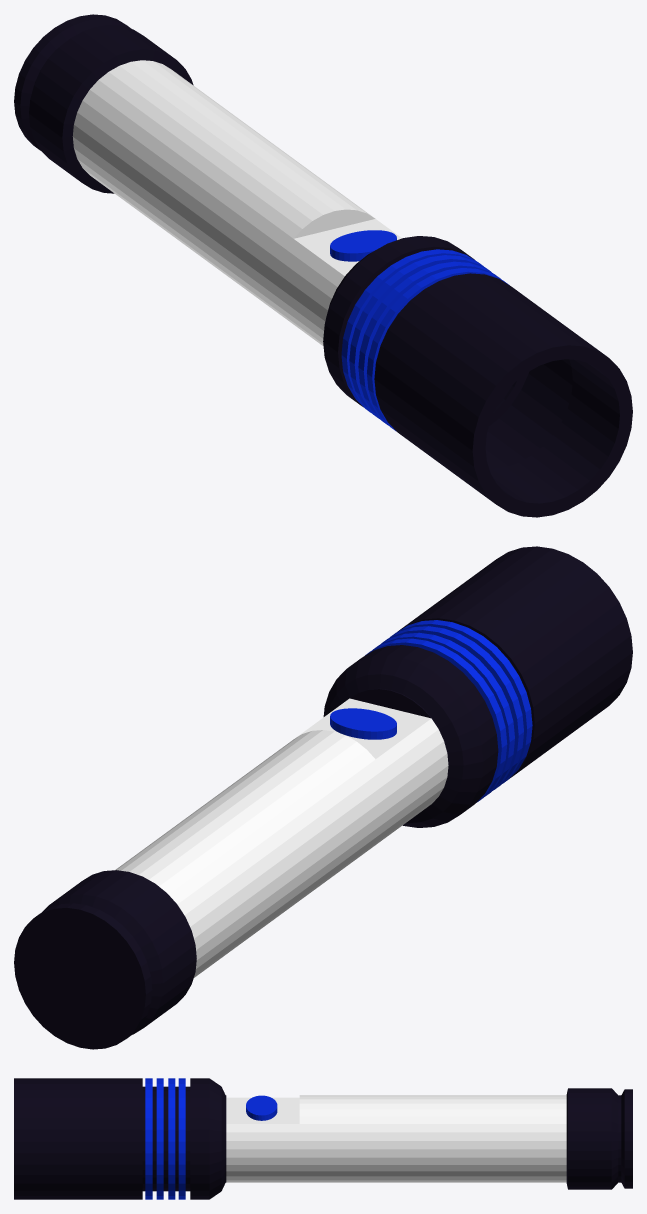
3 renders of one model, top to bottom at view 1: azimuth 30°, elevation 25°; view 2: azimuth 150°, elevation 25°; view 3: azimuth 270°, elevation 25°, orthographic. The views are drawn at different scales.
Visible parts, largest first — view 1: Cylinder.002, Cylinder.003, Cylinder.005, Cylinder.004, Cylinder, Cylinder.001, Cylinder.006; view 2: Cylinder.002, Cylinder.003, Cylinder, Cylinder.004, Cylinder.005, Cylinder.001, Cylinder.006; view 3: Cylinder.002, Cylinder.003, Cylinder.004, Cylinder.005, Cylinder, Cylinder.006, Cylinder.001.
Part boxes in pixels (bbox=[...]): Cylinder.002: bbox=[323, 236, 632, 517]; Cylinder.003: bbox=[72, 60, 372, 322]; Cylinder.005: bbox=[29, 25, 174, 182]; Cylinder.004: bbox=[276, 219, 401, 346]; Cylinder: bbox=[20, 19, 375, 324]; Cylinder.001: bbox=[330, 230, 396, 261]; Cylinder.006: bbox=[14, 14, 129, 149]; Cylinder.002: bbox=[323, 546, 632, 827]; Cylinder.003: bbox=[115, 730, 391, 977]; Cylinder: bbox=[14, 688, 448, 1049]; Cylinder.004: bbox=[296, 698, 448, 844]; Cylinder.005: bbox=[50, 870, 196, 1027]; Cylinder.001: bbox=[330, 708, 396, 739]; Cylinder.006: bbox=[36, 903, 152, 1038]; Cylinder.002: bbox=[14, 1078, 225, 1199]; Cylinder.003: bbox=[300, 1095, 566, 1182]; Cylinder.004: bbox=[226, 1097, 299, 1182]; Cylinder.005: bbox=[568, 1088, 611, 1189]; Cylinder: bbox=[225, 1088, 624, 1189]; Cylinder.006: bbox=[624, 1089, 632, 1188]; Cylinder.001: bbox=[246, 1095, 277, 1120].
Bounding box in the file's own units: 0.9242 × 0.9242 × 4.72.
